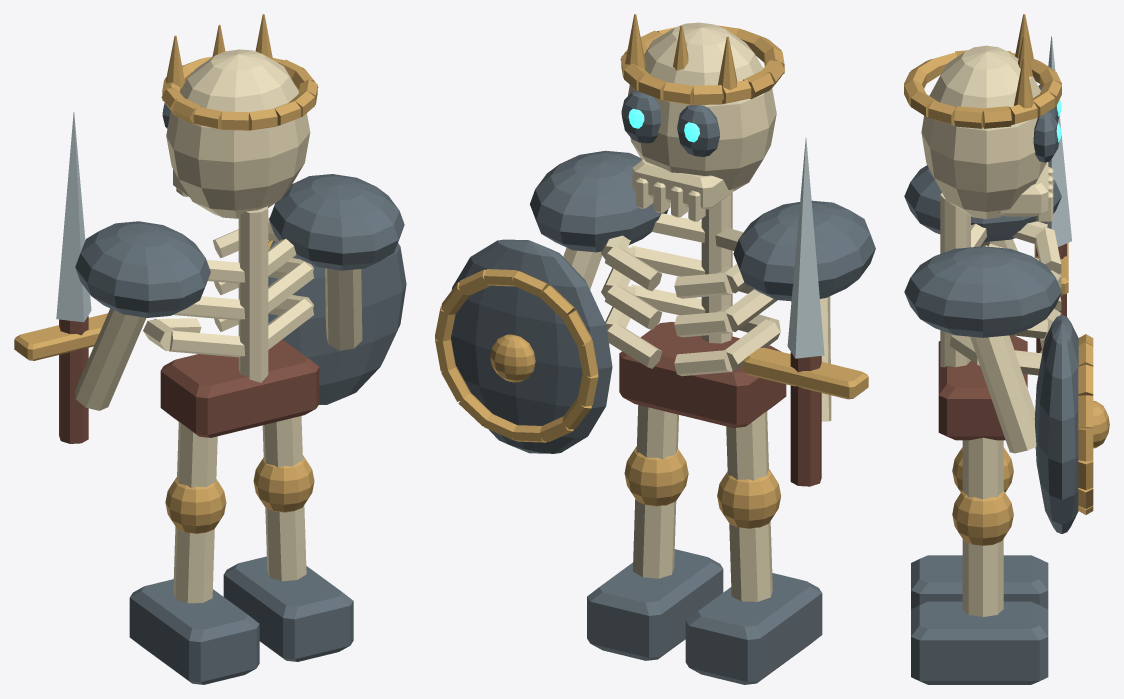
File: source.glb
The picture shows the model from 3 angles, left to right: view 1: azimuth 30°, elevation 25°; view 2: azimuth 150°, elevation 25°; view 3: azimuth 270°, elevation 25°; orthographic projection. The views are drawn at different scales.
Parts seen in each view (by area): view 1: body; view 2: body; view 3: body.
Part boxes in pixels (x1,y1,x2,y2): body: (14, 14, 406, 684); body: (435, 14, 875, 684); body: (904, 14, 1109, 684).
Bounding box in the file's own units: 1.33 × 1.97 × 0.6005.
